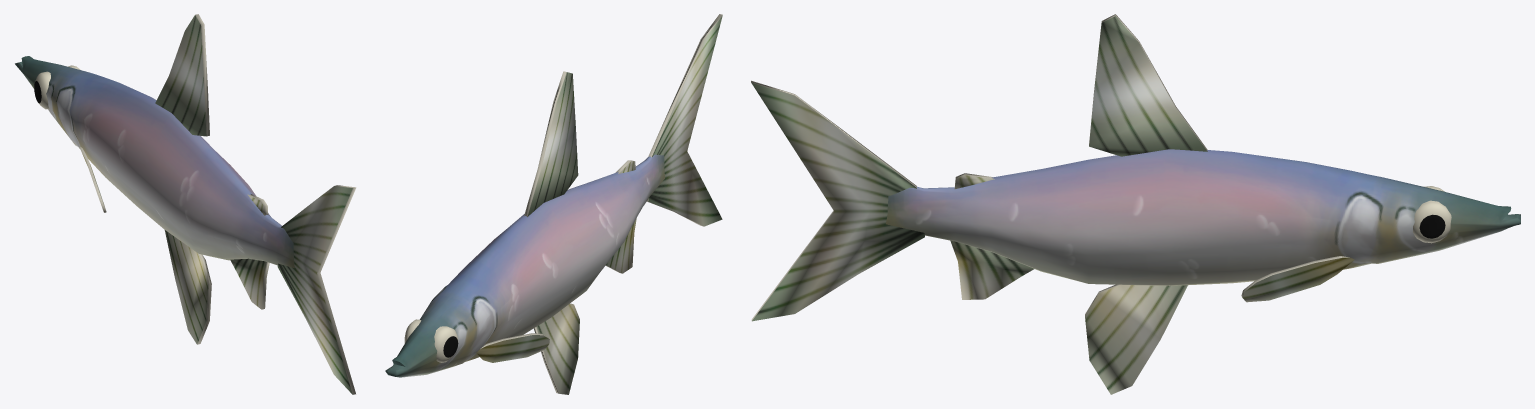
File: Arctic_Cisco.fbx
3 views of the same model, side by side, from view 1: azimuth 30°, elevation 25°; view 2: azimuth 150°, elevation 25°; view 3: azimuth 270°, elevation 25° (orthographic). The views are drawn at different scales.
Visible parts, largest first — view 1: Arctic Sisco.002; view 2: Arctic Sisco.002; view 3: Arctic Sisco.002.
Part boxes in pixels (x1,y1,x2,y2): Arctic Sisco.002: [15, 14, 356, 394]; Arctic Sisco.002: [385, 14, 722, 394]; Arctic Sisco.002: [751, 14, 1520, 394].
Size of the model in its own units: 7.39 by 28.79 by 52.99.
1 material, 1 textured.
